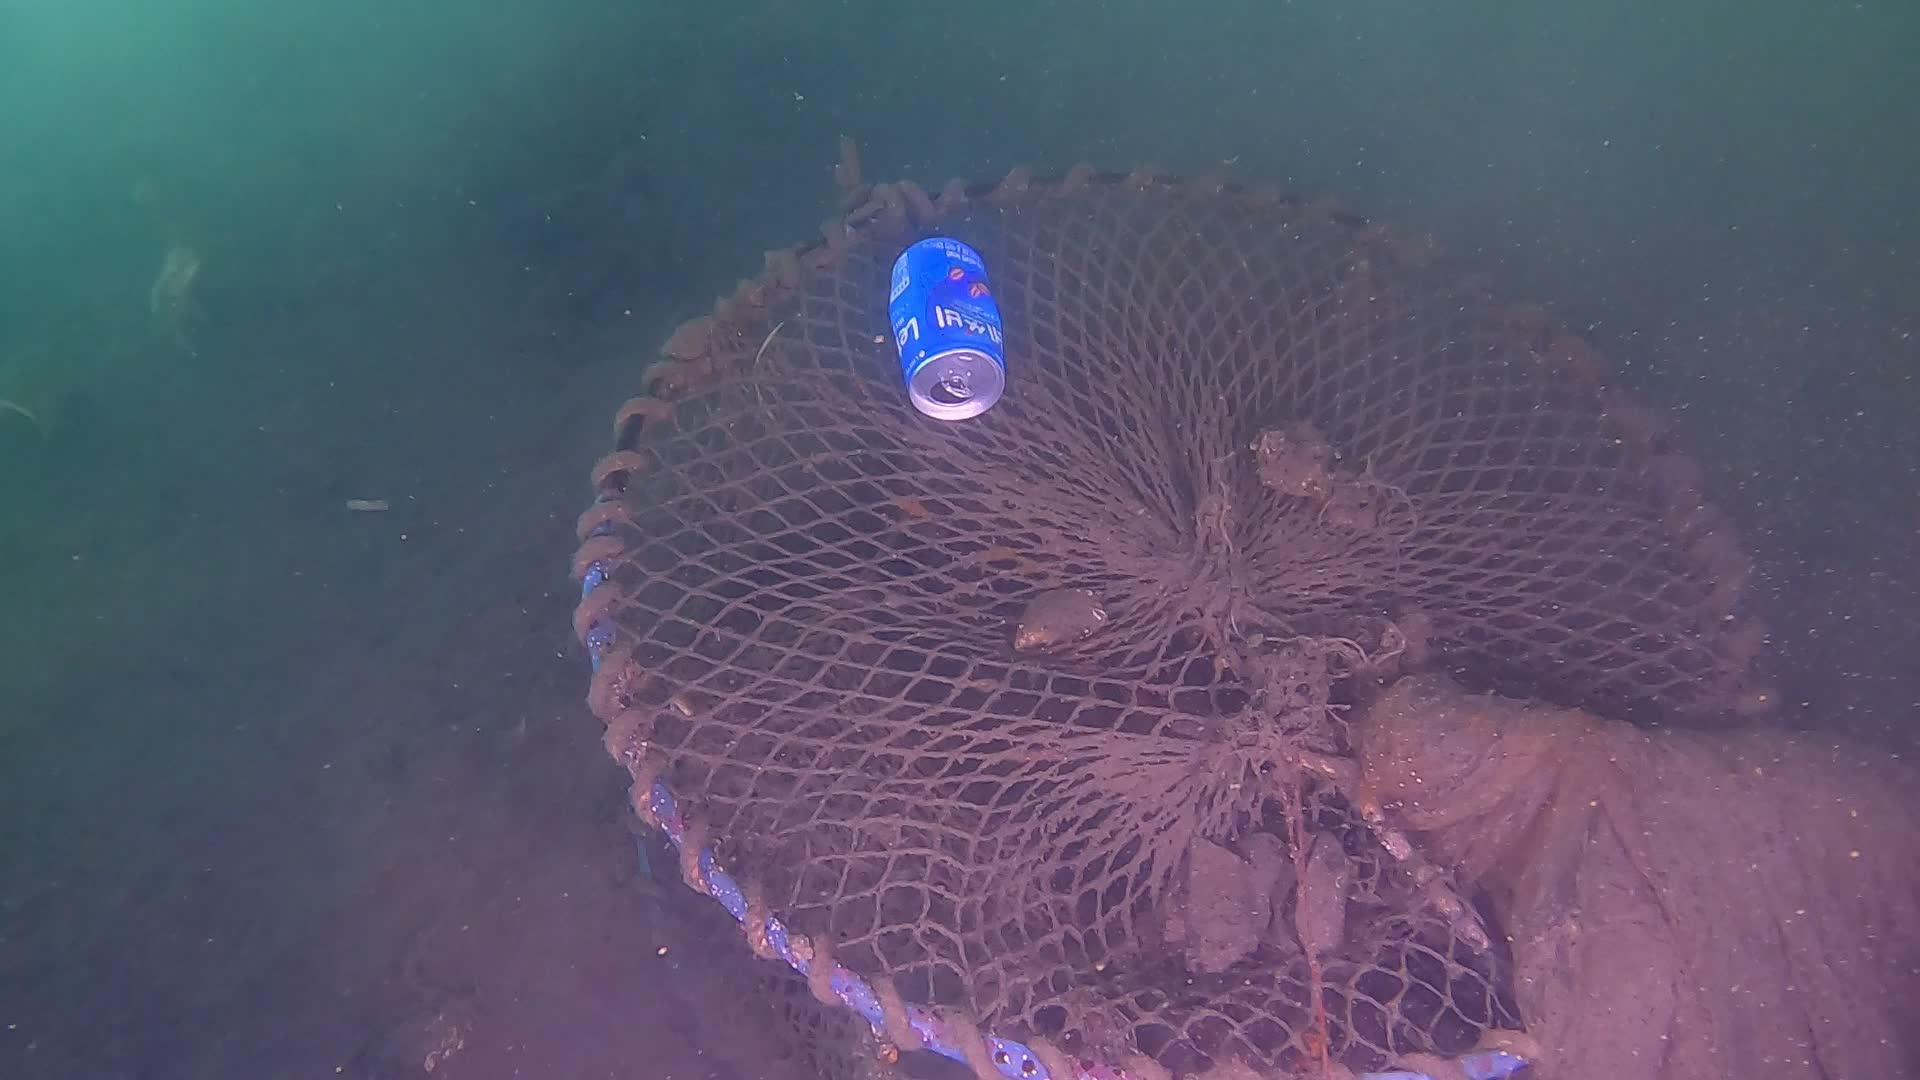circular fish trap: (572, 160, 1789, 1080)
